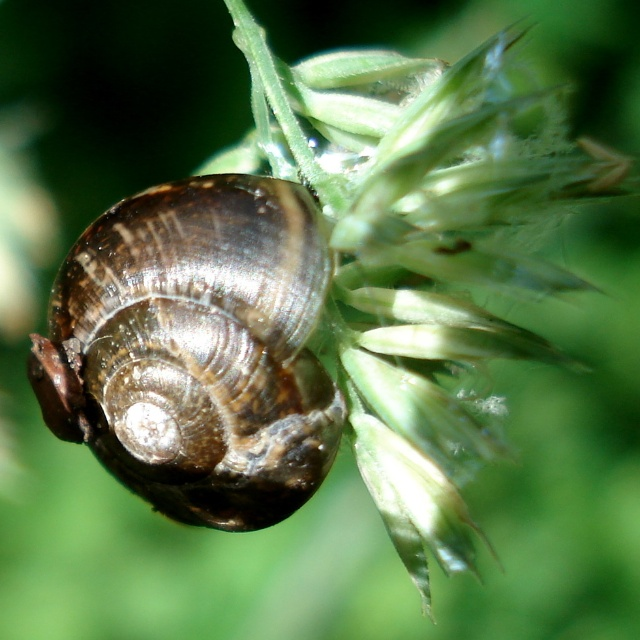Snail: (25, 168, 353, 535)
